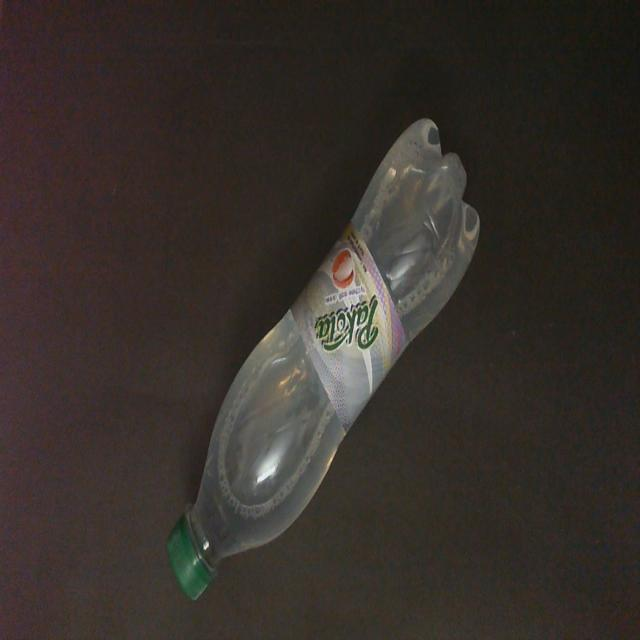non-defect: (164, 115, 482, 606)
